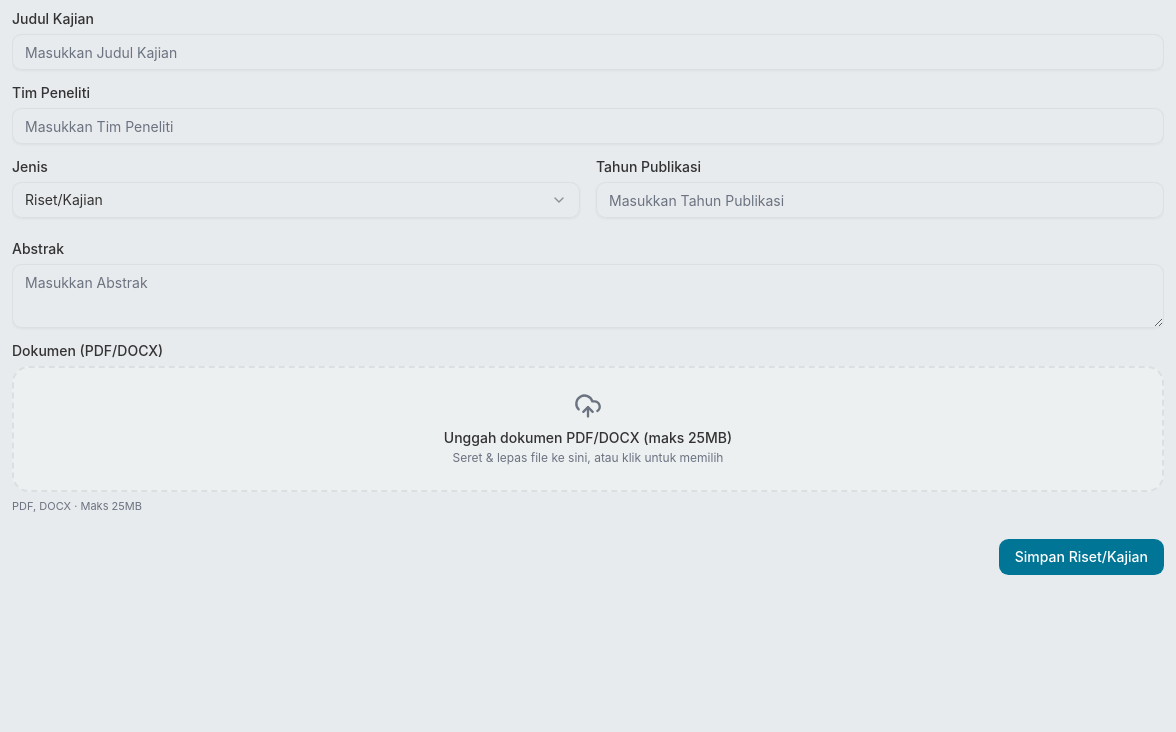
Scenario: RisetForm › shows validation errors when submitting empty form
What coordinates should you click on to do the following:
click the button "Simpan Riset/Kajian"
I would click on:
 (1081, 556)
Its box is [999,538,1164,574].
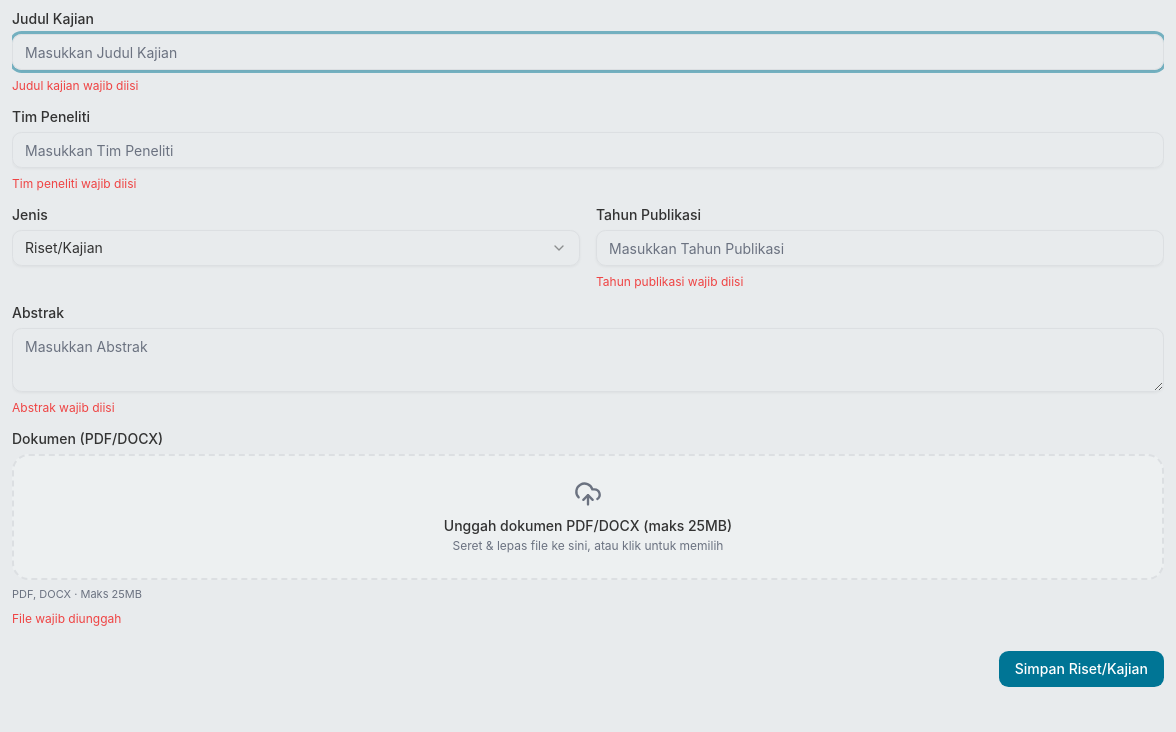
expect the text "Judul kajian wajib diisi" is shown: met, box [12,78,138,93]
expect the text "Tim peneliti wajib diisi" is shown: met, box [12,176,136,191]
expect the text "File wajib diunggah" is shown: met, box [12,610,121,626]
